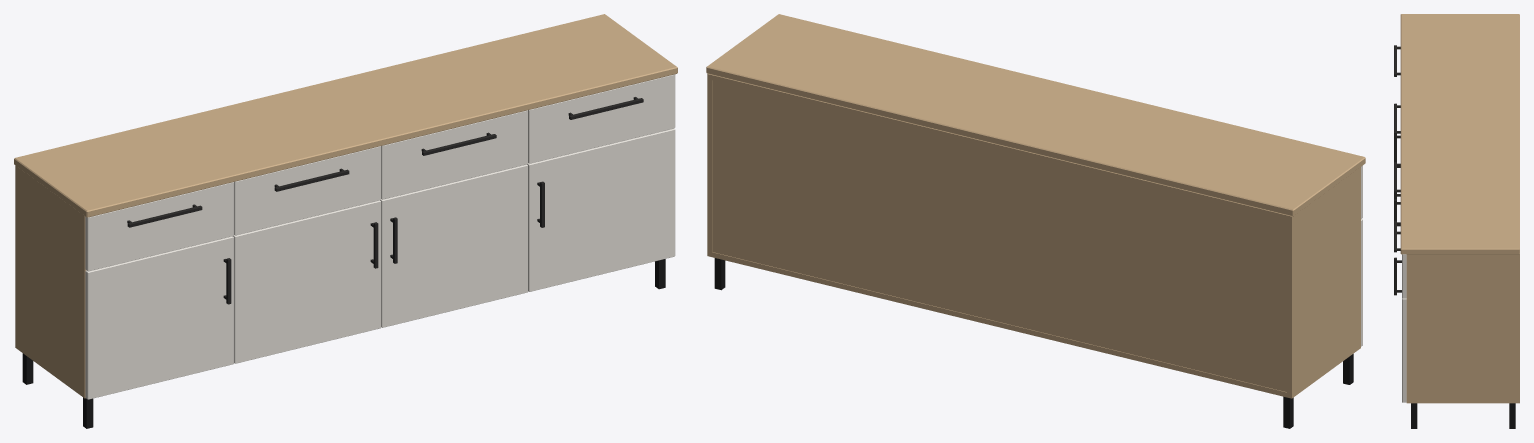
The model's file is 50_komoda_220_bufet.glb.
3 renders of one model, left to right at view 1: azimuth 30°, elevation 25°; view 2: azimuth 150°, elevation 25°; view 3: azimuth 270°, elevation 25°, orthographic. The views are drawn at different scales.
Parts seen in each view (by area): view 1: Wierzch, Front_drzwi_2, Front_drzwi_8, Front_drzwi_6, Front_drzwi_4, Korpus, Front_szuflada_1, Front_szuflada_7, Front_szuflada_5, Front_szuflada_3, Uchwyty, Nogi; view 2: Korpus, Wierzch, Nogi; view 3: Wierzch, Korpus, Uchwyty, Front_drzwi_8, Nogi, Front_szuflada_7.
Part boxes in pixels (x1,y1,x2,y2): Wierzch: (14,14,677,217); Front_drzwi_2: (85,236,233,399); Front_drzwi_8: (527,128,675,291); Front_drzwi_6: (380,164,527,327); Front_drzwi_4: (233,200,380,363); Korpus: (15,165,86,398); Front_szuflada_1: (85,182,233,271); Front_szuflada_7: (528,74,675,163); Front_szuflada_5: (381,110,527,199); Front_szuflada_3: (234,146,380,235); Uchwyty: (127,97,643,304); Nogi: (22,259,665,428); Korpus: (707,74,1360,398); Wierzch: (706,14,1365,216); Nogi: (714,258,1353,428); Wierzch: (1400,14,1519,254); Korpus: (1406,254,1519,403); Uchwyty: (1394,45,1401,295); Front_drzwi_8: (1402,298,1406,402); Nogi: (1411,403,1515,428); Front_szuflada_7: (1402,254,1406,298).
Bounding box in the file's own units: 2.21 × 0.8 × 0.5.
